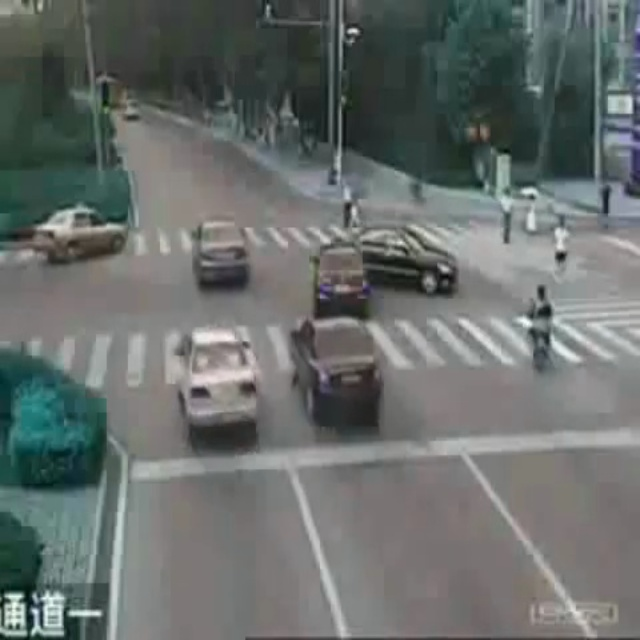acc: (313, 228, 460, 315)
